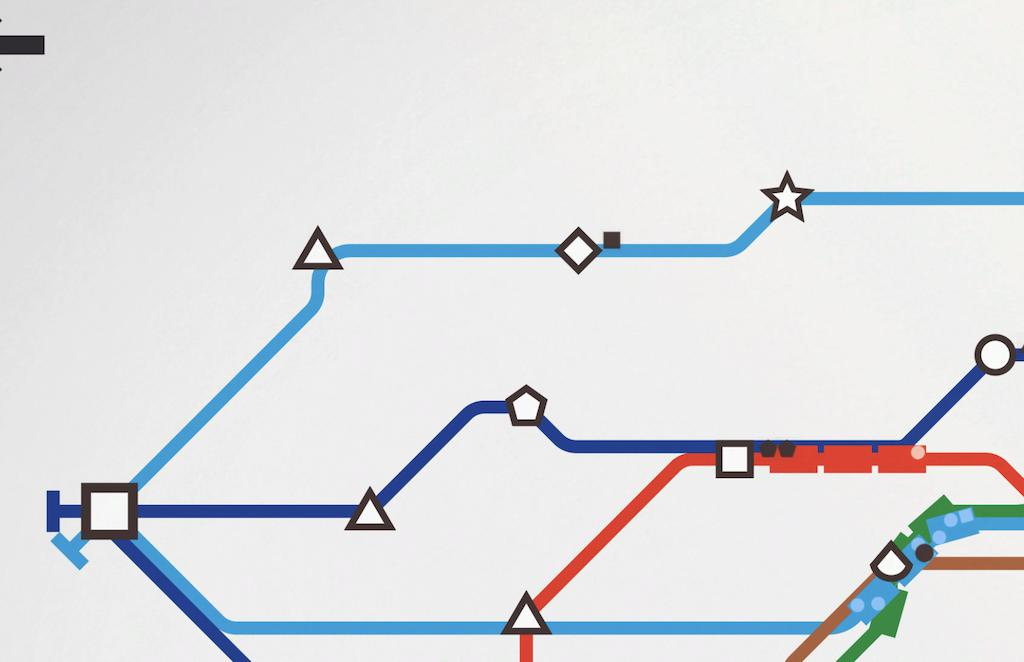connected_station: (70, 467, 156, 555), (543, 201, 632, 279), (489, 580, 570, 658), (747, 160, 827, 237), (285, 213, 359, 293), (857, 531, 937, 600), (324, 475, 413, 537), (501, 369, 568, 440), (700, 432, 764, 487), (968, 329, 1024, 383)
line_endpoint: (39, 532, 111, 577), (29, 482, 72, 537)
train: (812, 491, 992, 633), (763, 433, 944, 487)
